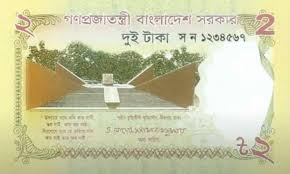2_taka: (16, 12, 278, 164)
